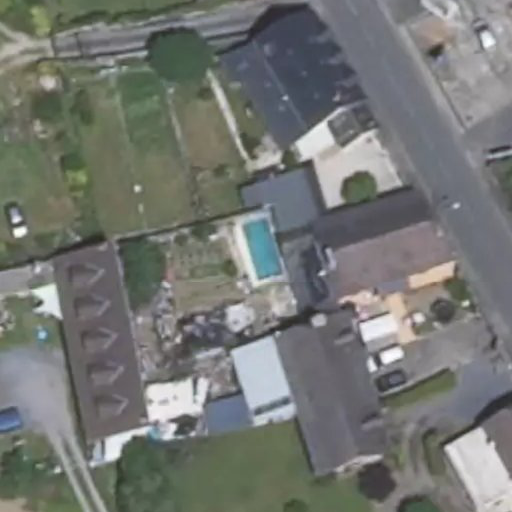pool: (231, 214, 278, 268)
